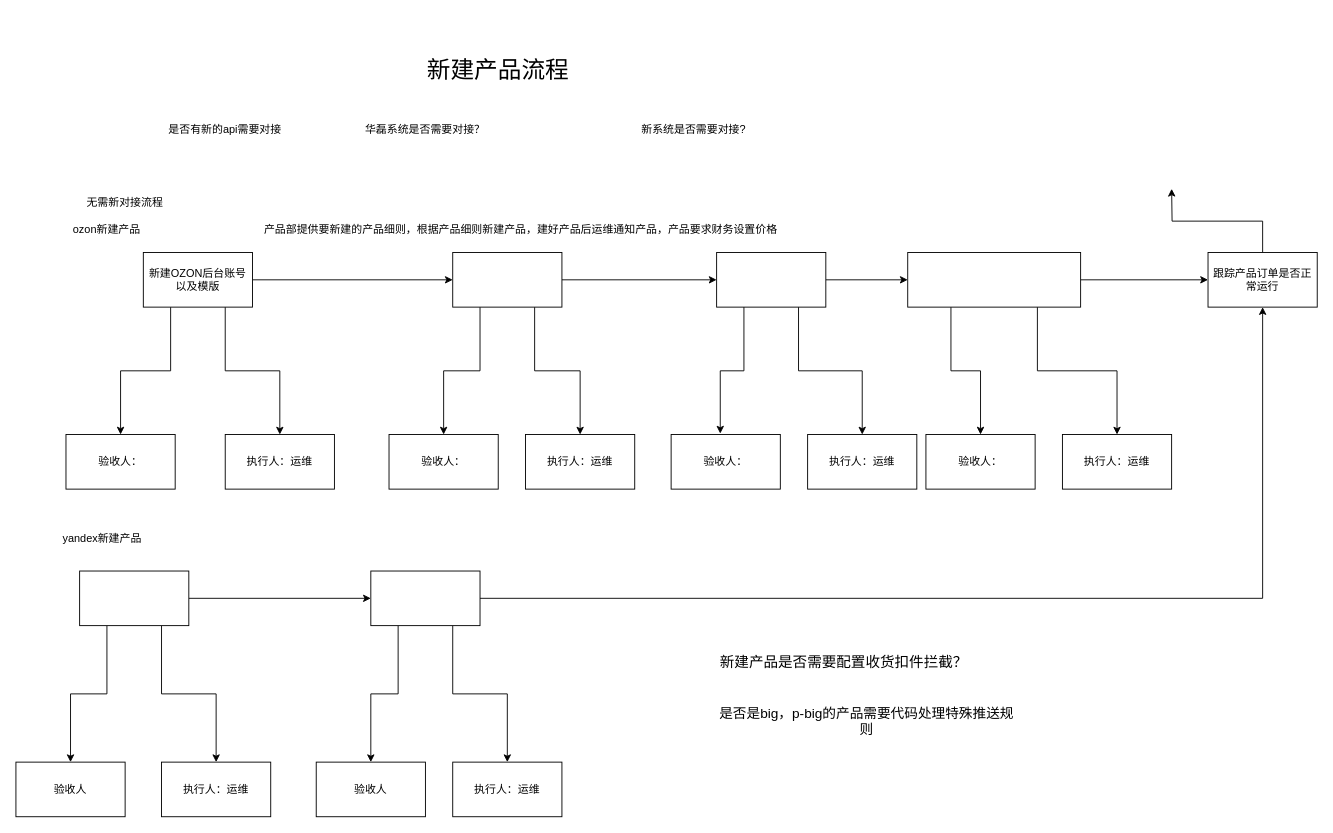
The diagram is 1333 pixels wide and 833 high, and some of its shapes have lost their labels. The shapes that lost their labels are listed below. From the top down, each one's centre as x and y in pixels, then its label:
At pixel 507 279: "新建华磊系统产品维护".
At pixel 771 279: "新建TMS系统产品管理".
At pixel 994 279: "是否需要配置轨迹跟踪".
At pixel 134 598: "新建华磊系统产品".
At pixel 425 598: "新建新系统产品".
